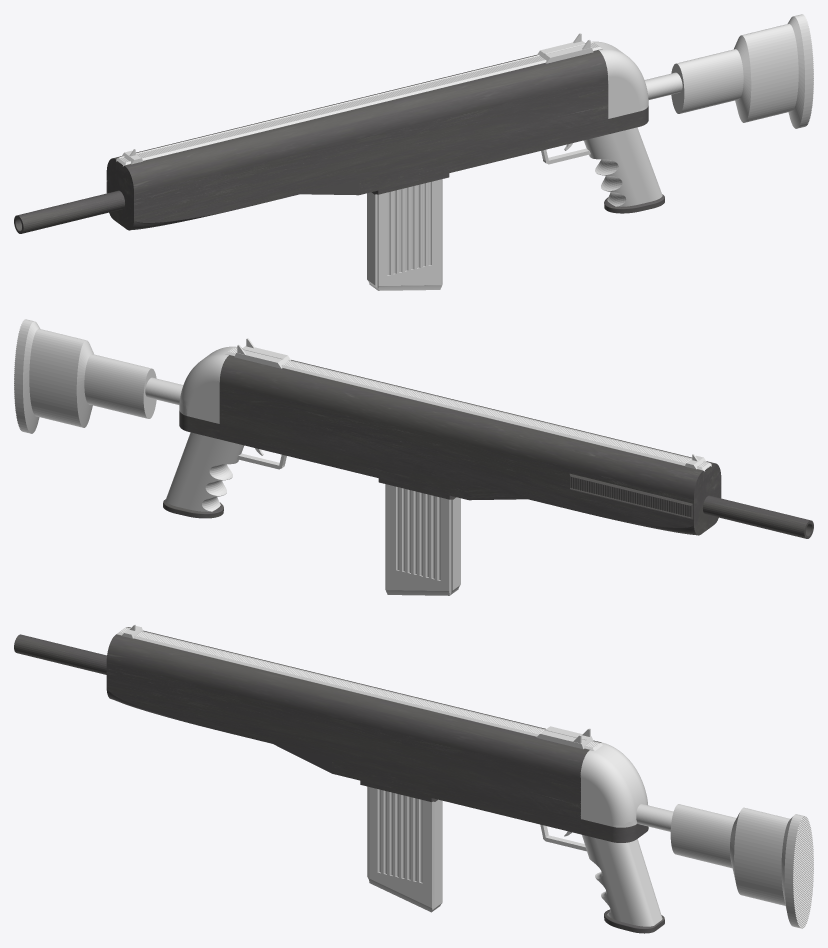
File: bron1.fbx
3 renders of one model, top to bottom at view 1: azimuth 30°, elevation 25°; view 2: azimuth 150°, elevation 25°; view 3: azimuth 330°, elevation 25°, orthographic.
Parts seen in each view (by area): view 1: BronGoraDolLufa, Walec.001, Magazynek, NaDodatkiGora.001, Uchwyt, BronTyl, Celownik1, Walec, UchwytDol; view 2: BronGoraDolLufa, Walec.001, Magazynek, NaDodatkiGora.001, Uchwyt, BronTyl, NaDodatkiBok, Celownik1, Walec, UchwytDol; view 3: BronGoraDolLufa, Walec.001, Magazynek, Uchwyt, NaDodatkiGora.001, BronTyl, Celownik1, Walec.
Part boxes in pixels (x1,y1,x2,y2): BronGoraDolLufa: (14,43,648,233); Walec.001: (671,14,813,128); Magazynek: (367,179,442,290); NaDodatkiGora.001: (116,42,602,166); Uchwyt: (583,127,662,206); BronTyl: (592,41,648,118); Celownik1: (537,33,593,63); Walec: (644,72,682,99); UchwytDol: (604,194,664,213); BronGoraDolLufa: (179,348,813,538); Walec.001: (14,319,156,433); Magazynek: (385,484,460,595); NaDodatkiGora.001: (225,347,711,471); Uchwyt: (165,432,244,511); BronTyl: (179,346,235,423); NaDodatkiBok: (569,473,695,519); Celownik1: (234,338,290,368); Walec: (145,377,183,404); UchwytDol: (163,499,223,518); BronGoraDolLufa: (14,627,648,842); Walec.001: (670,804,813,928); Magazynek: (367,786,442,912); Uchwyt: (582,835,662,926); NaDodatkiGora.001: (117,627,602,750); BronTyl: (580,742,647,827); Celownik1: (536,726,593,749); Walec: (636,804,673,831).
Bounding box in the file's own units: 13244 × 3440 × 828.
